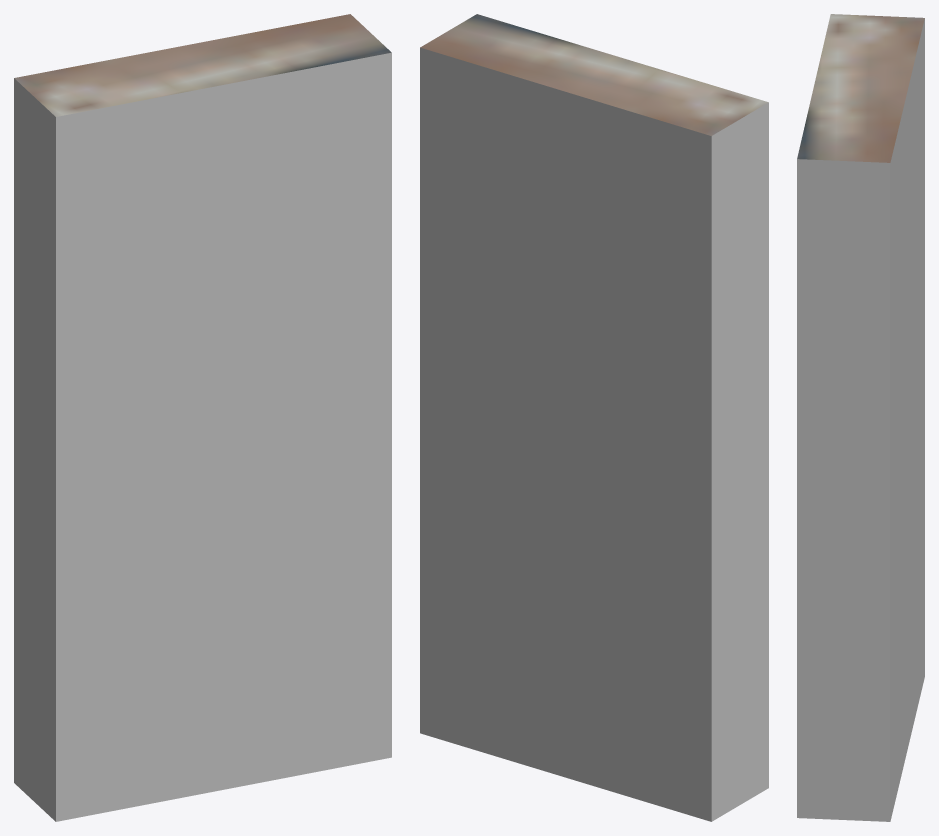
The model's file is DEBW_0010007THZK.gltf.
3 renders of one model, left to right at view 1: azimuth 30°, elevation 25°; view 2: azimuth 150°, elevation 25°; view 3: azimuth 270°, elevation 25°, orthographic. The views are drawn at different scales.
Visible parts, largest first — view 1: Z_UP; view 2: Z_UP; view 3: Z_UP.
Boxes of the visible parts, <box> form: Z_UP: <box>14,14,391,821</box>; Z_UP: <box>420,14,768,821</box>; Z_UP: <box>797,14,924,821</box>.
Bounding box in the file's own units: 4.19 × 8.64 × 1.52.
Materials: 2 (1 with a texture image).
